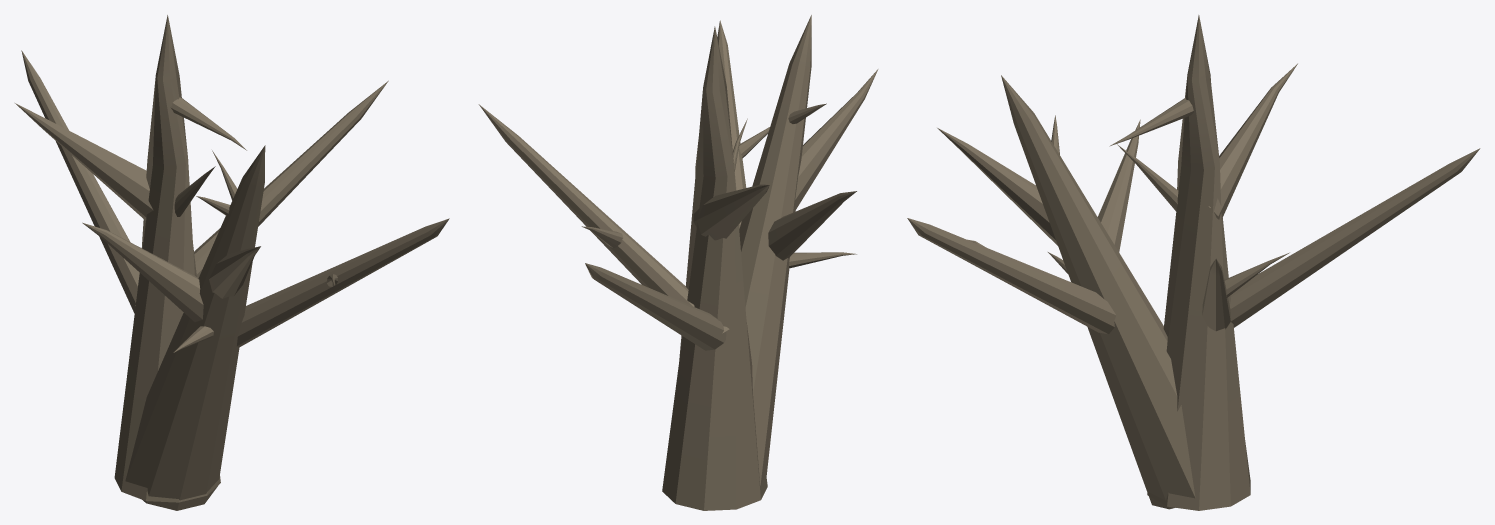
Rendered from Arbusto muerto.fbx.
The picture shows the model from 3 angles, left to right: view 1: azimuth 30°, elevation 25°; view 2: azimuth 150°, elevation 25°; view 3: azimuth 270°, elevation 25°; orthographic projection. The views are drawn at different scales.
Visible parts, largest first — view 1: polySurface450; view 2: polySurface450; view 3: polySurface450.
Part boxes in pixels (<box>): polySurface450: <box>15,15,449,510</box>; polySurface450: <box>478,15,878,510</box>; polySurface450: <box>907,15,1480,510</box>.
Bounding box in the file's own units: 0.8566 × 1.13 × 1.21.
